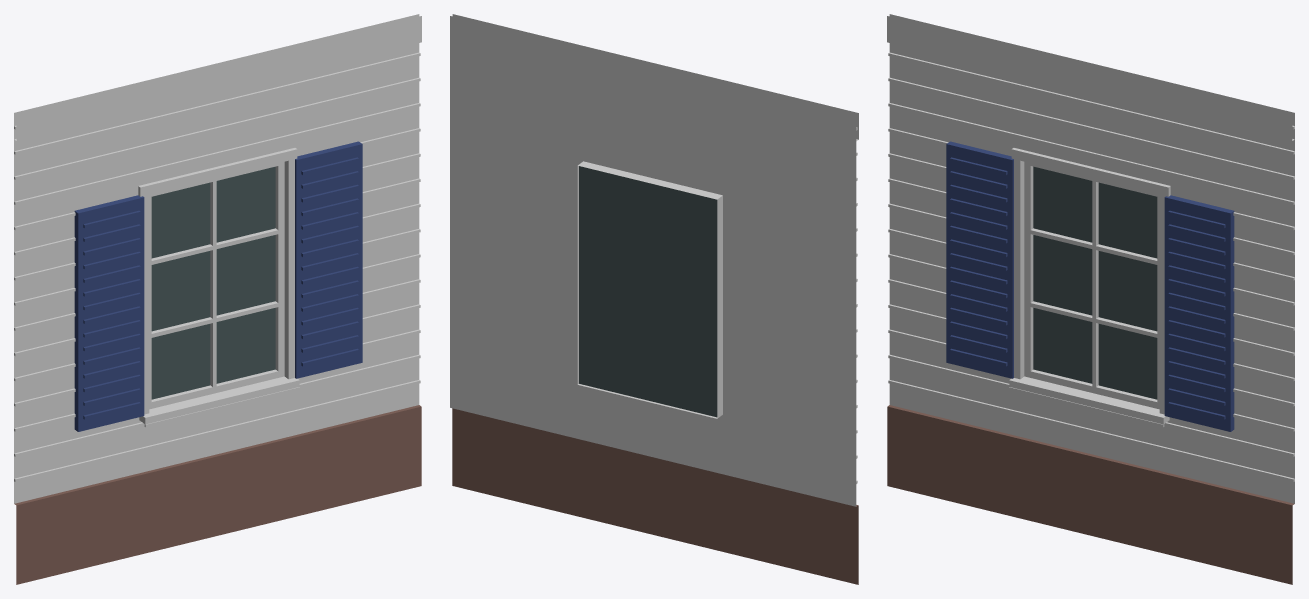
Rendered from base-w1_close.fbx.
3 renders of one model, left to right at view 1: azimuth 30°, elevation 25°; view 2: azimuth 150°, elevation 25°; view 3: azimuth 330°, elevation 25°, orthographic.
Visible parts, largest first — view 1: a2000/600/base-w1_close; view 2: a2000/600/base-w1_close; view 3: a2000/600/base-w1_close.
Part boxes in pixels (left/top/right/bottom): a2000/600/base-w1_close: left=14, top=14, right=421, bottom=584; a2000/600/base-w1_close: left=450, top=14, right=858, bottom=584; a2000/600/base-w1_close: left=887, top=14, right=1294, bottom=584.
Bounding box in the file's own units: 3.2 × 3.55 × 0.165.
